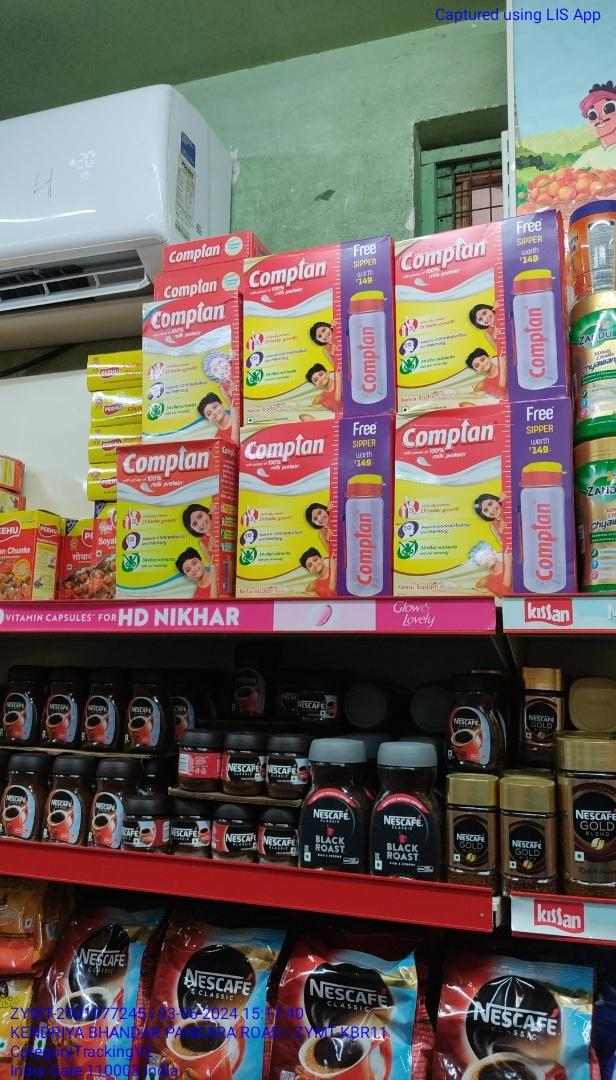COMPLAN_CREAMY_CLASSIC_500_G_PACK: (116, 446, 215, 597), (143, 296, 237, 438)
